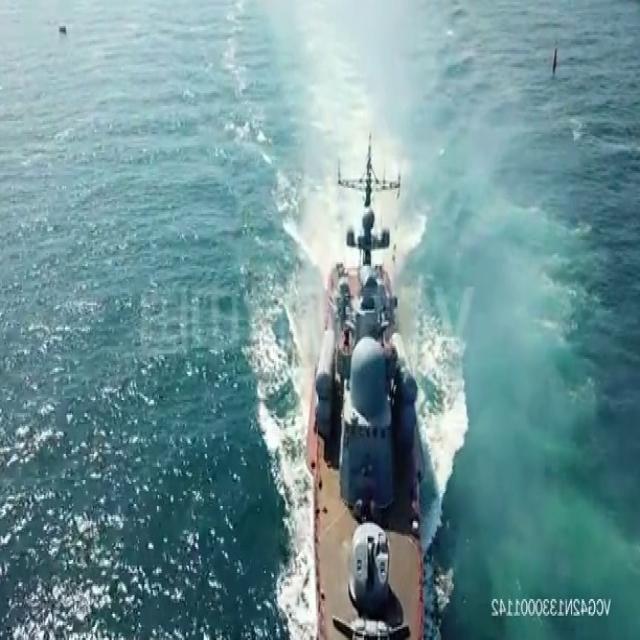navalvessels: (306, 126, 432, 640)
